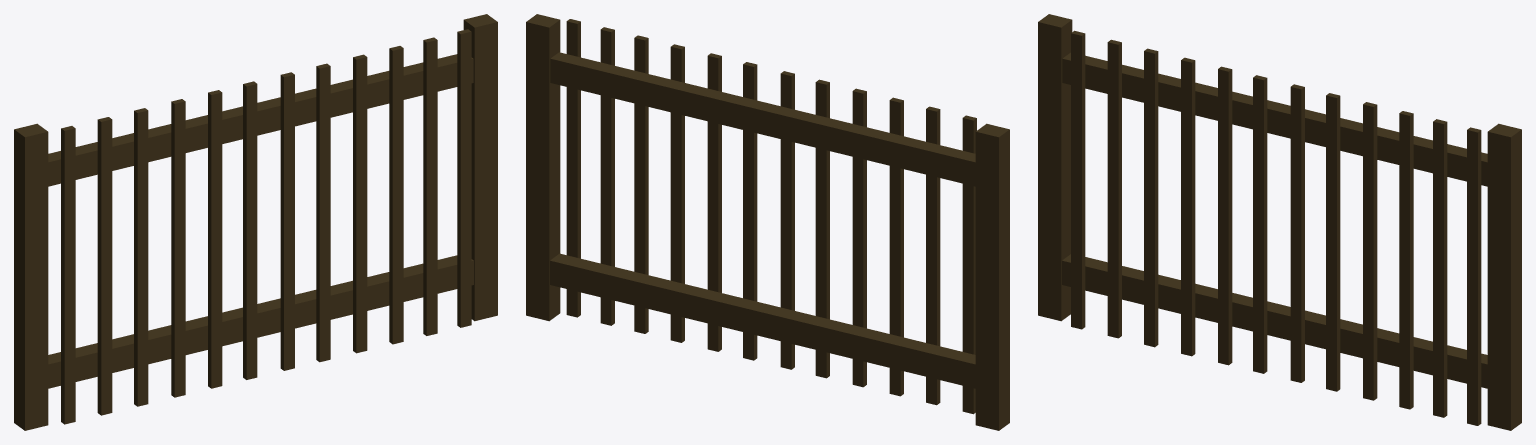
File: fence.obj
The picture shows the model from 3 angles, left to right: view 1: azimuth 30°, elevation 25°; view 2: azimuth 150°, elevation 25°; view 3: azimuth 330°, elevation 25°; orthographic projection.
Parts seen in each view (by area): view 1: Box, Box3, Box2, Box1, Box5, Box15, Box6, Box10, Box9, Box8, Box14, Box7 (+4 smaller); view 2: Box3, Box2, Box, Box1, Box13, Box14, Box12, Box6, Box11, Box5, Box10, Box9 (+4 smaller); view 3: Box1, Box, Box3, Box2, Box13, Box4, Box6, Box5, Box12, Box14, Box15, Box7 (+4 smaller).
Boxes of the visible parts, x1,y1,x2,y2 form: Box: (14, 123, 48, 430); Box3: (48, 255, 473, 388); Box2: (48, 54, 473, 186); Box1: (463, 14, 497, 321); Box5: (97, 117, 112, 415); Box15: (457, 29, 471, 327); Box6: (134, 108, 148, 406); Box10: (280, 72, 294, 370); Box9: (243, 81, 257, 379); Box8: (208, 90, 222, 388); Box14: (423, 37, 437, 335); Box7: (171, 99, 185, 397); Box3: (550, 253, 975, 388); Box2: (550, 52, 975, 186); Box: (975, 123, 1009, 430); Box1: (526, 14, 560, 321); Box13: (634, 35, 648, 333); Box14: (600, 27, 614, 325); Box12: (670, 44, 684, 342); Box6: (889, 97, 903, 396); Box11: (707, 53, 721, 351); Box5: (926, 106, 940, 405); Box10: (743, 62, 757, 360); Box9: (780, 71, 794, 369); Box1: (1487, 123, 1521, 430); Box: (1038, 14, 1072, 321); Box3: (1062, 254, 1487, 388); Box2: (1062, 52, 1487, 186); Box13: (1399, 111, 1413, 409); Box4: (1071, 30, 1085, 329); Box6: (1144, 48, 1158, 347); Box5: (1107, 39, 1121, 338); Box12: (1363, 102, 1377, 400); Box14: (1433, 119, 1447, 417); Box15: (1467, 127, 1481, 425); Box7: (1181, 57, 1195, 356).
Size of the model in its own units: 6.5 by 3.86 by 0.3386.
